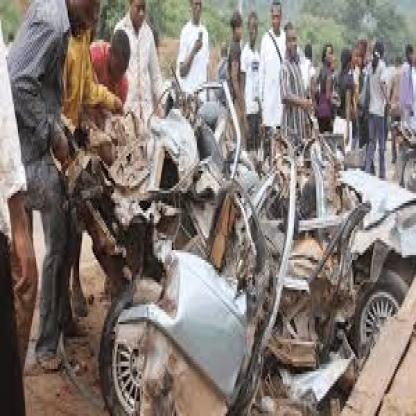accident: (58, 64, 416, 416)
